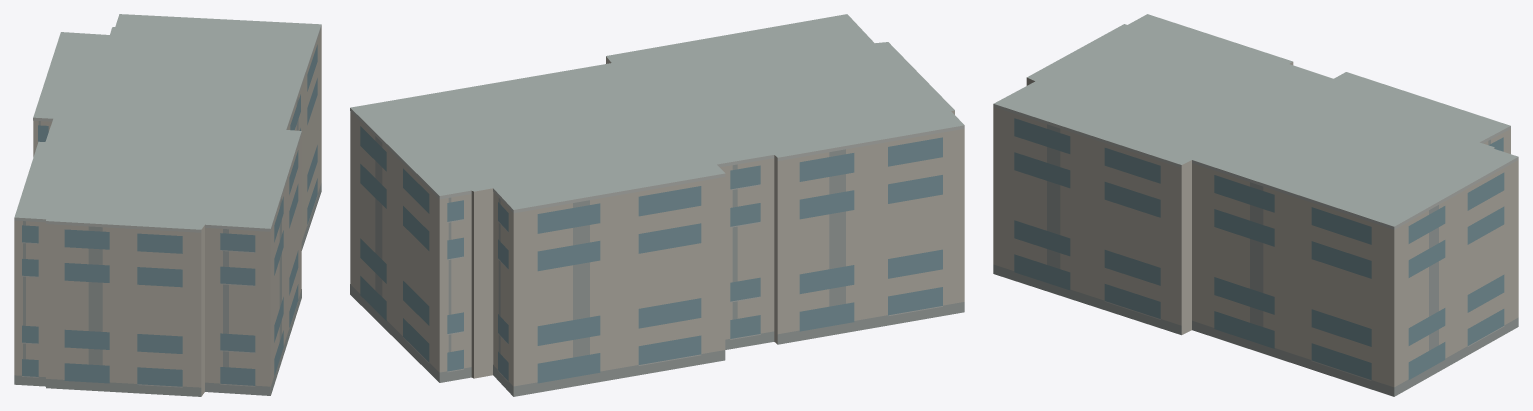
Rendered from survey-upis-32798339.glb.
3 views of the same model, side by side, from view 1: azimuth 30°, elevation 25°; view 2: azimuth 150°, elevation 25°; view 3: azimuth 270°, elevation 25° (orthographic). The views are drawn at different scales.
Visible parts, largest first — view 1: survey-upis-32798339.tmp; view 2: survey-upis-32798339.tmp; view 3: survey-upis-32798339.tmp.
Boxes of the visible parts, x1,y1,x2,y2 form: survey-upis-32798339.tmp: (14, 14, 321, 396); survey-upis-32798339.tmp: (350, 14, 964, 396); survey-upis-32798339.tmp: (993, 14, 1518, 396).
Size of the model in its own units: 36.05 by 13.44 by 37.6.
